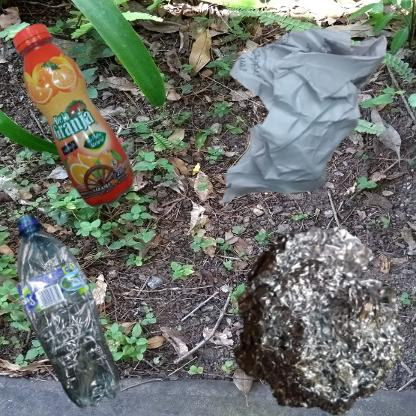aluminio: (213, 213, 416, 416)
botella: (10, 10, 156, 246), (10, 213, 127, 412)
papel: (213, 10, 394, 226)
